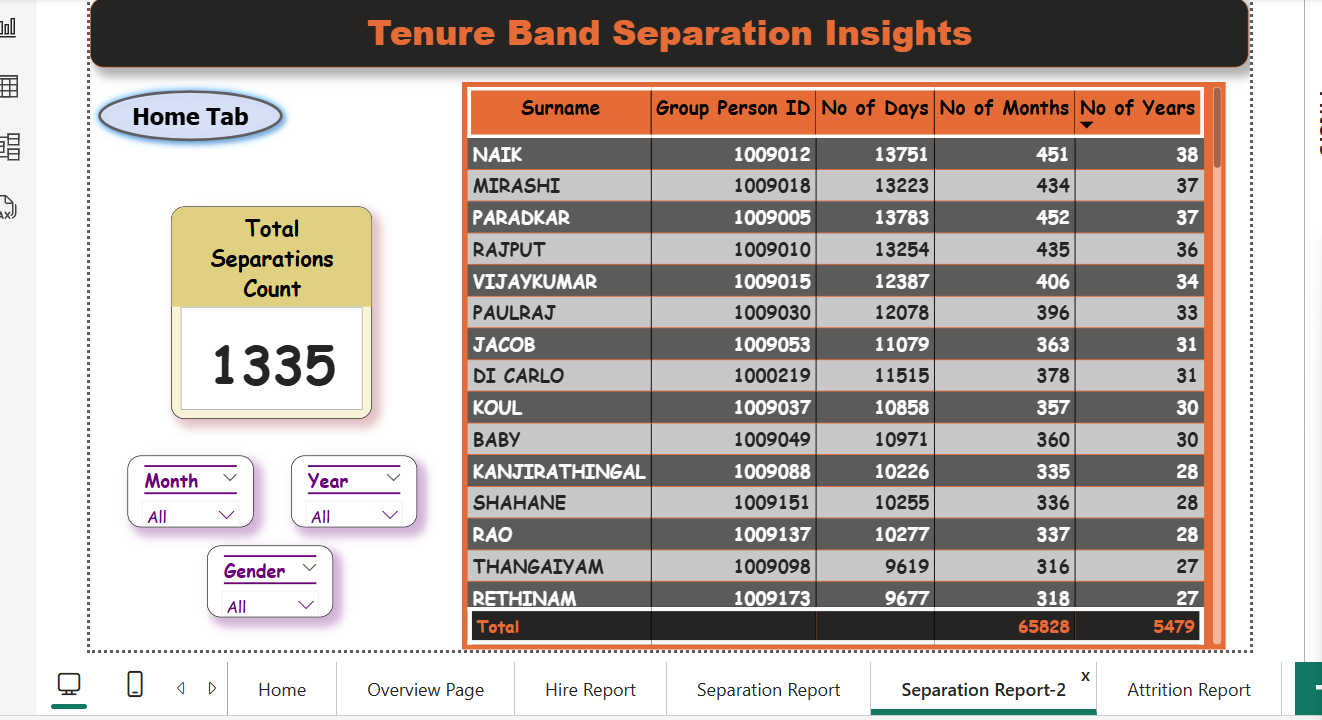

What the dashboard file says about the page in this screenshot:
{"tool":"powerbi","page":{"name":"Separation Report-2","canvas":[1280,720],"ordinal":4},"visuals":[{"type":"tableEx","fields":{"Values":["Table1.Surname","Table1.Group Person ID","Sum(Table1.Tenure)","Sum(Table1.No of Months)","Sum(Table1.No of Years)"]},"box":[411.3,92.3,843.6,626.6],"z":0},{"type":"textbox","box":[0,0,1279.5,76.5],"z":1000},{"type":"cardVisual","title":"Total Separations Count ","fields":{"Data":["Count(Hiretermination.Group Person ID)"]},"box":[89.1,229.9,221.8,234.8],"z":2000},{"type":"slicer","fields":{"Values":["Hiretermination.Termination Date.Variation.Date Hierarchy.Year"]},"box":[221.8,505.2,139.3,79.3],"z":3000},{"type":"slicer","fields":{"Values":["Hiretermination.Termination Date.Variation.Date Hierarchy.Month"]},"box":[42.1,505.2,139.3,79.3],"z":4000},{"type":"slicer","fields":{"Values":["Hiretermination.Gender"]},"box":[129.5,604,139.3,79.3],"z":5000},{"type":"actionButton","box":[0,92.3,221.8,74.5],"z":6000}]}

Visuals, with their boxes on the page's 1280x720 design canvas (x1, y1, x2, y2). These are canvas units, not pixel positions in the 1322x720 screenshot, which may show the page scaled, cropped or inside an application window:
tableEx - Table1.Surname x Table1.Group Person ID: [411,92,1255,719]
textbox: [0,0,1280,76]
"Total Separations Count " cardVisual: [89,230,311,465]
slicer - Hiretermination.Termination Date.Variation.Date Hierarchy.Year: [222,505,361,584]
slicer - Hiretermination.Termination Date.Variation.Date Hierarchy.Month: [42,505,181,584]
slicer - Hiretermination.Gender: [130,604,269,683]
actionButton: [0,92,222,167]
